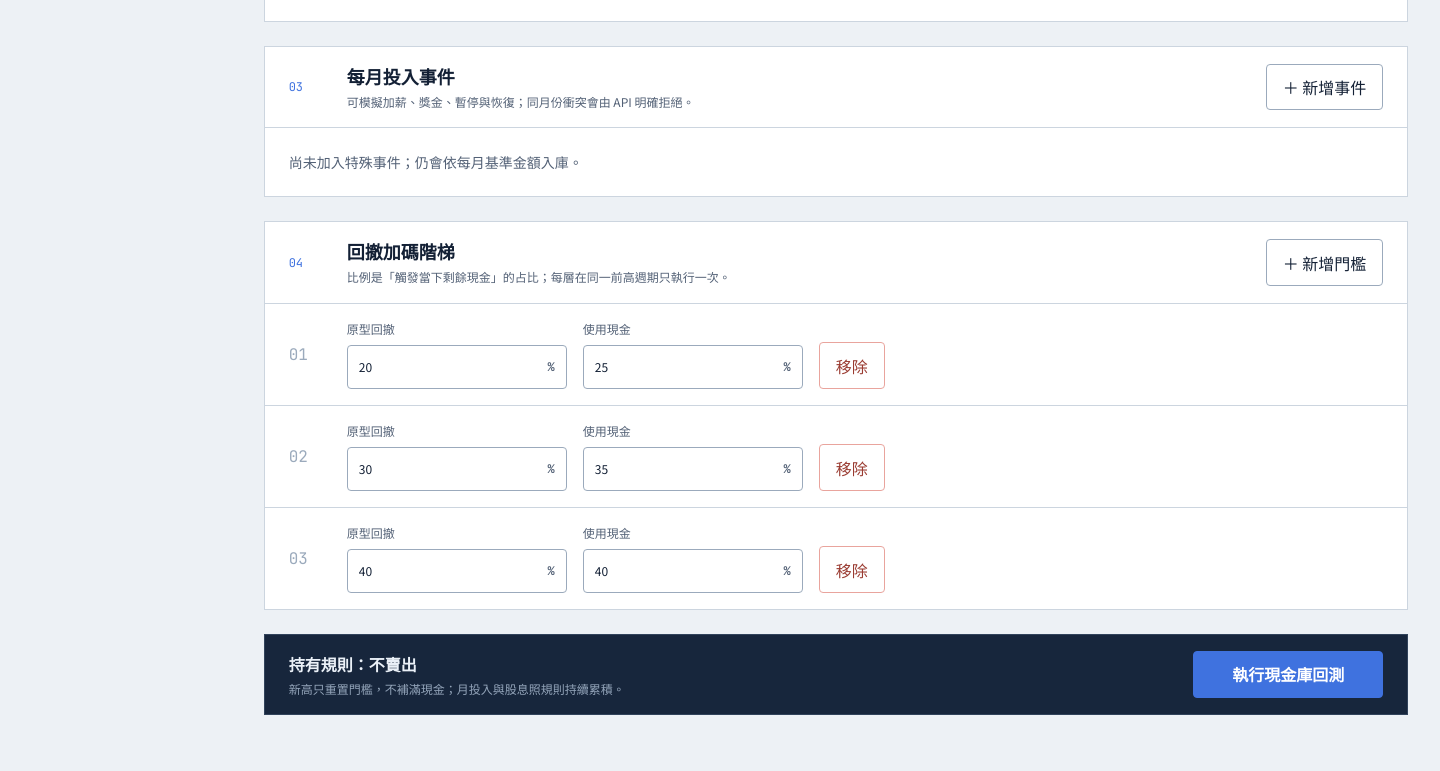
cash-pool strategy laboratory › shows validation detail returned by the research API
(page scrolled)
Click the button "執行現金庫回測": (1288, 674) [1193,651,1383,698]
(page scrolled)
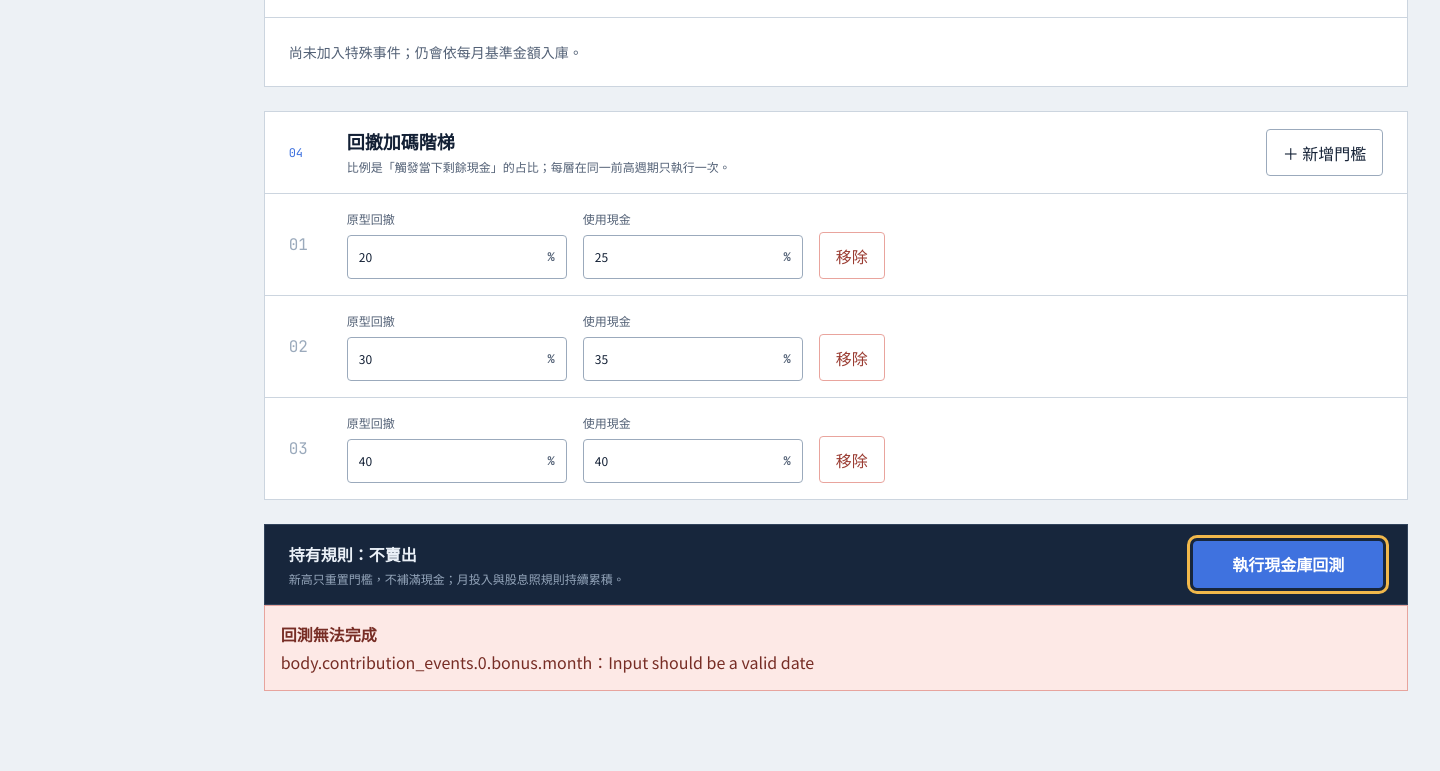
Check: the text "body.contribution_events.0.bonus.month：Input should be a valid date" is shown, box [281,650,814,674]
